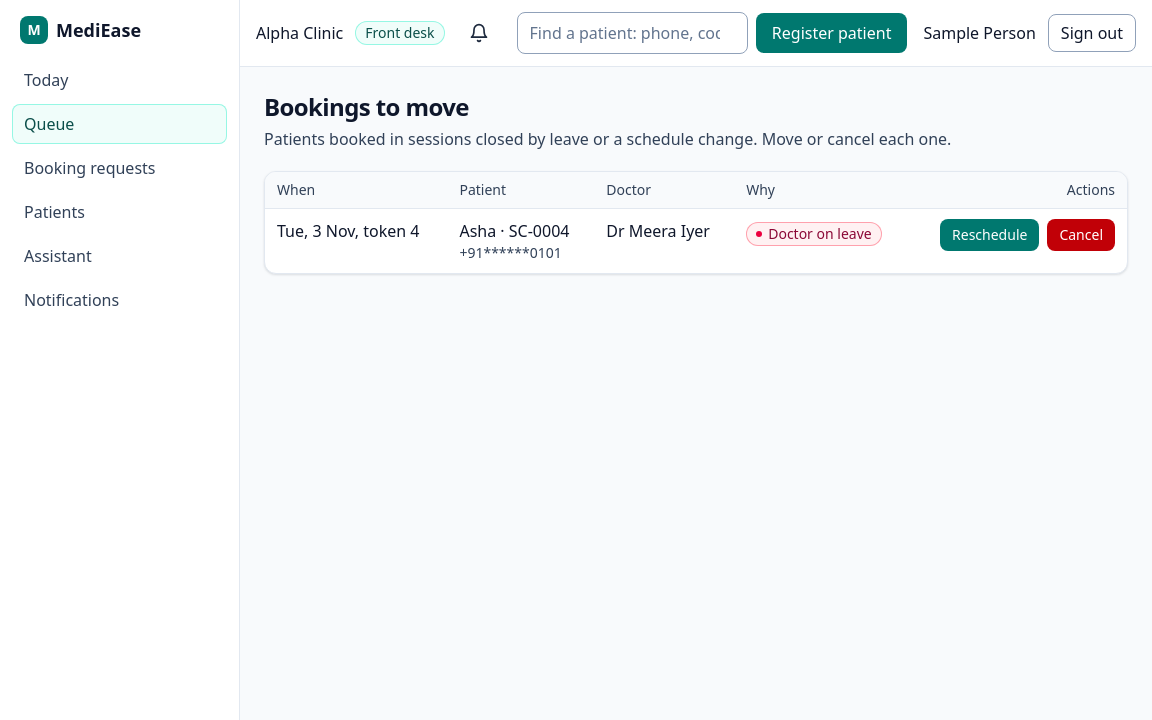
Test: bookings to move (M6a-P8, FR-APT-09, decision 6A) › cancels with Doctor unavailable preselected, then refreshes the list
The image size is (1152, 720).
Click the button with aria-label "Cancel Asha · SC-0004" at point(1081, 235), box [1047, 219, 1115, 251]
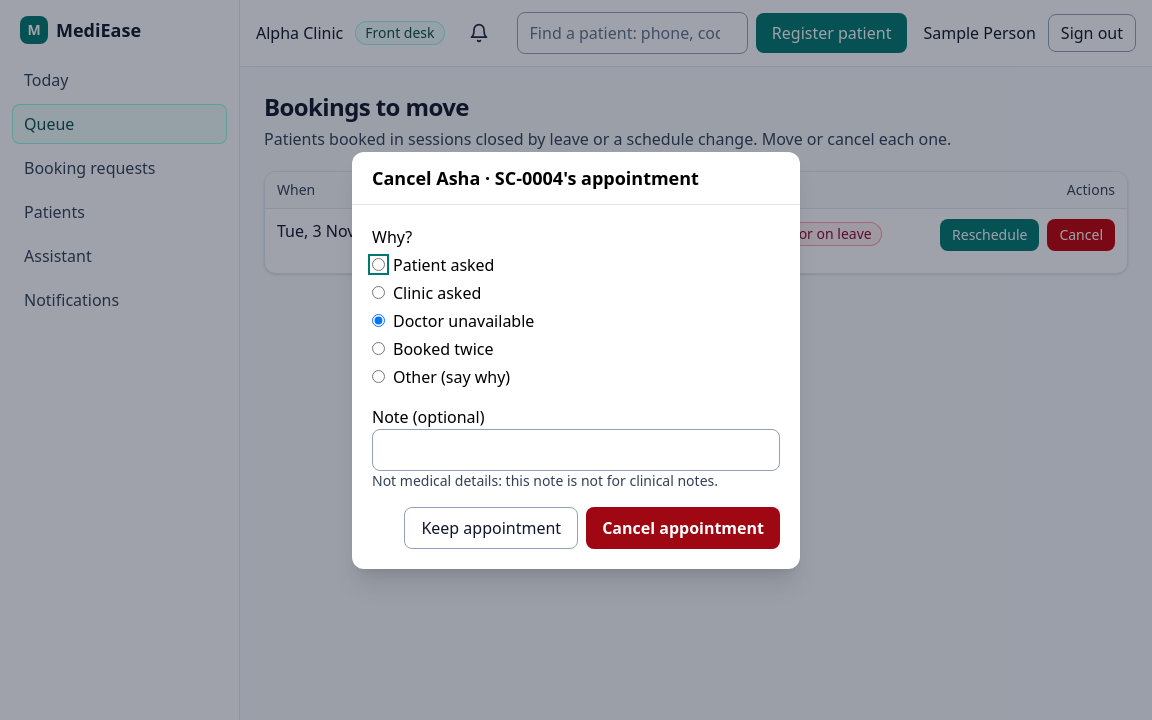
expect the radio button labelled "Doctor unavailable" is checked: met, box [372, 314, 385, 327]
Click the button "Cancel appointment" at point(683, 528), box [586, 506, 780, 548]
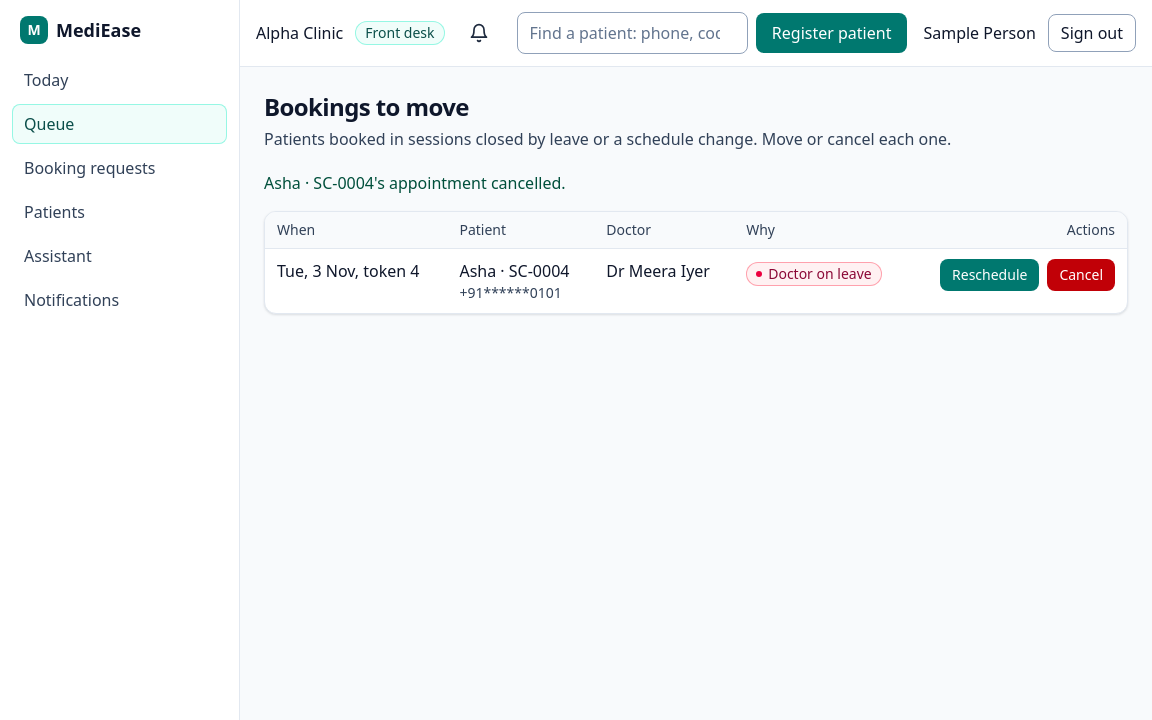
expect the text "Asha · SC-0004's appointment cancelled." is shown: met, box [264, 172, 566, 194]
